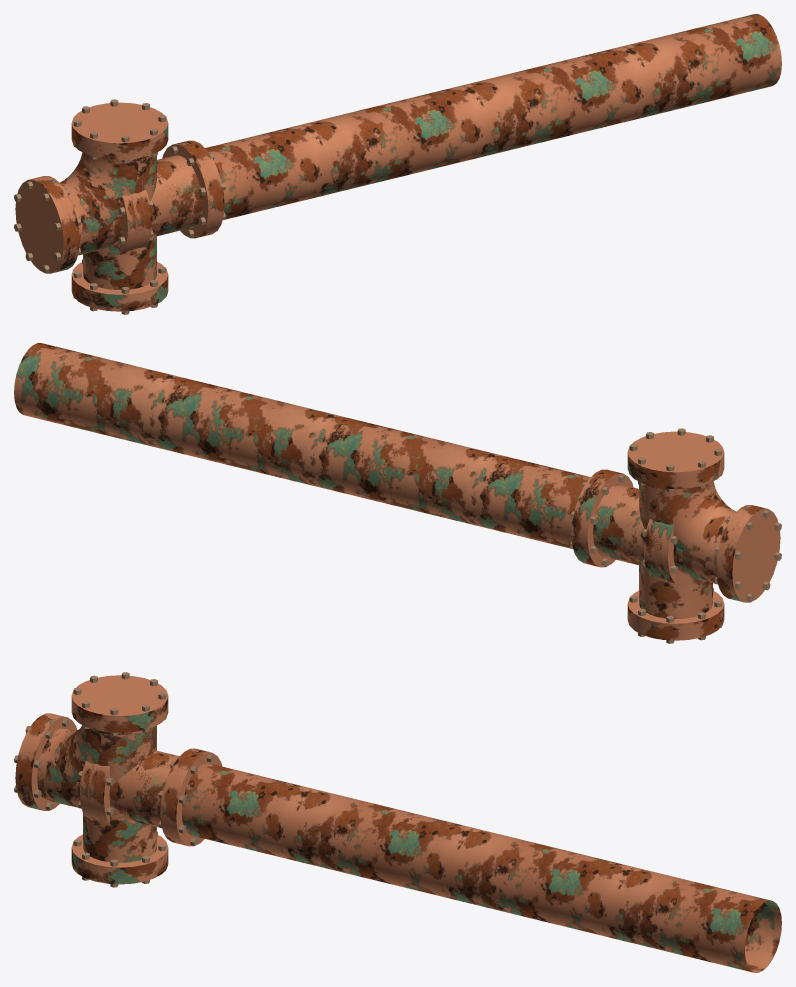
Rendered from pipes.glb.
3 renders of one model, top to bottom at view 1: azimuth 30°, elevation 25°; view 2: azimuth 150°, elevation 25°; view 3: azimuth 330°, elevation 25°, orthographic.
Parts seen in each view (by area): view 1: straight_200, straight_100, elbow, straight_050, cross, tee, end_cap, flange; view 2: straight_200, straight_100, elbow, straight_050, cross, tee, end_cap, flange; view 3: straight_200, straight_100, elbow, straight_050, tee, cross, flange, end_cap.
Part boxes in pixels (x1,y1,x2,y2): straight_200: (151,14,781,233); straight_100: (151,92,459,234); elbow: (14,99,168,273); straight_050: (151,132,298,236); cross: (71,156,168,314); tee: (69,140,225,254); end_cap: (118,191,151,254); flange: (130,189,153,250); straight_200: (14,343,644,560); straight_100: (335,421,644,561); elbow: (627,428,781,602); straight_050: (496,461,644,563); cross: (627,485,724,643); tee: (570,469,726,583); end_cap: (644,519,677,583); flange: (642,518,665,579); straight_200: (109,751,781,972); straight_100: (109,751,446,893); elbow: (14,672,168,810); straight_050: (109,752,280,854); tee: (37,725,222,846); cross: (71,726,168,887); flange: (87,763,113,823); end_cap: (78,761,110,822).
Bounding box in the file's own units: 2.26 × 0.524 × 0.26.
3 materials, 1 textured.
